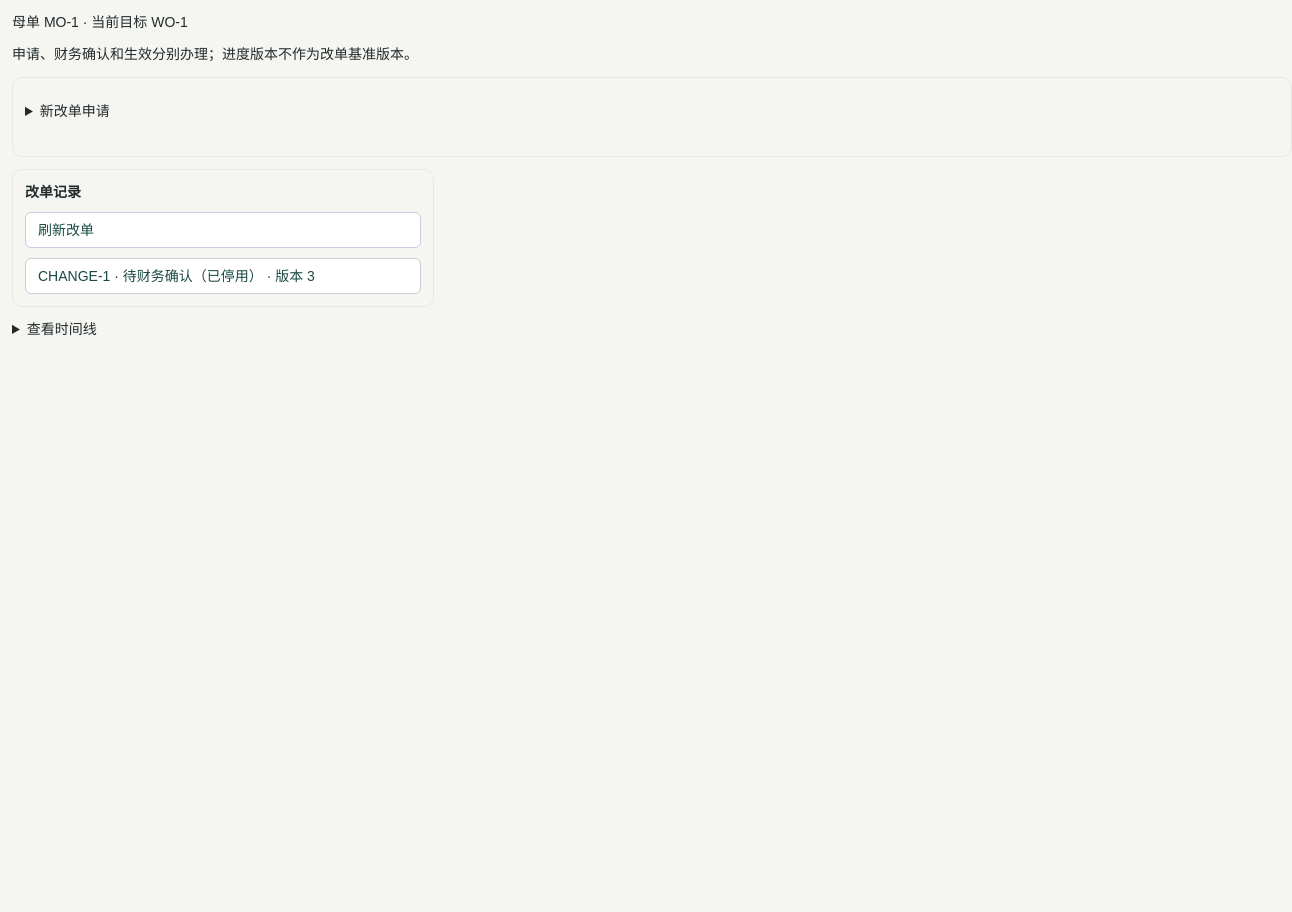
Scenario: 独立改单面板 › 旧的金额确认入口已移除，不能再提交差额
The image size is (1292, 912).
Click the button "CHANGE-1 · 待财务确认（已停用） · 版本 3" at (223, 276), box [25,258,421,294]
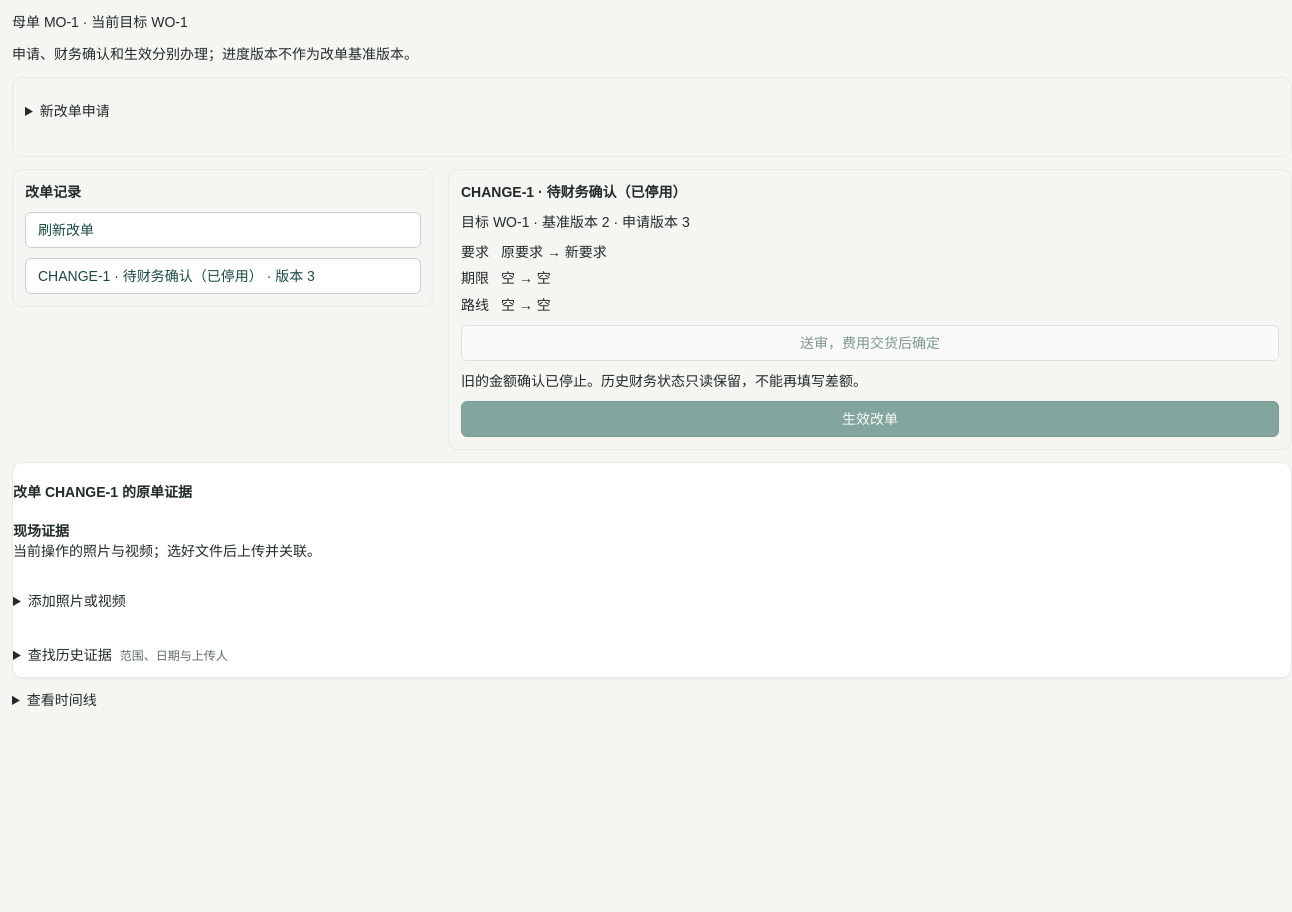
Result: the text "旧的金额确认已停止" is shown at [461,373,867,389]
